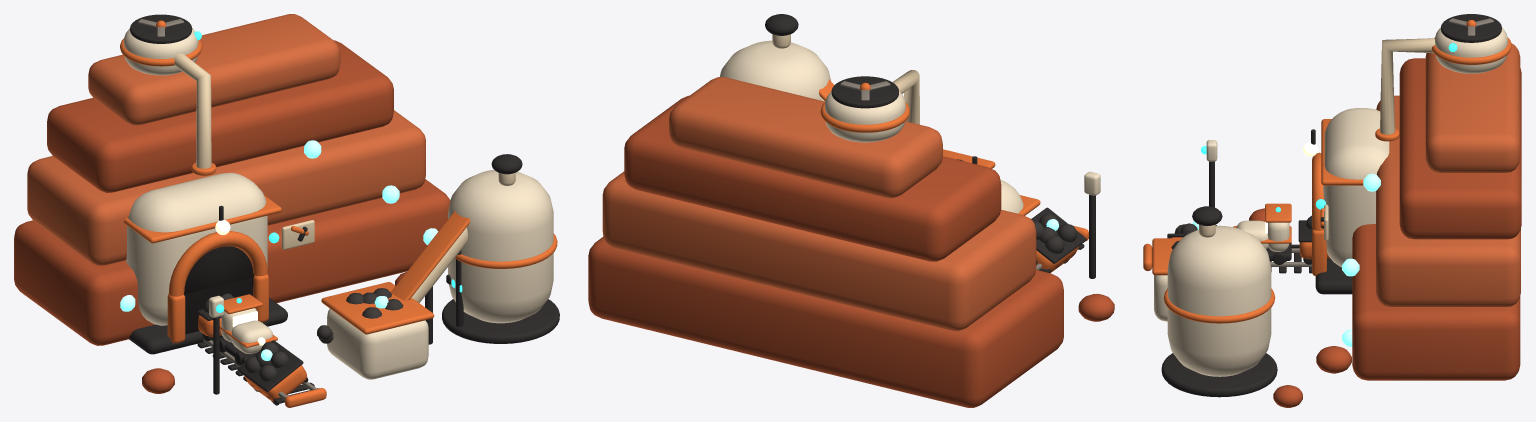
Rendered from mine-portal.glb.
3 renders of one model, left to right at view 1: azimuth 30°, elevation 25°; view 2: azimuth 150°, elevation 25°; view 3: azimuth 270°, elevation 25°, orthographic. The views are drawn at different scales.
Parts seen in each view (by area): view 1: Cube, Cube.002, Cube.001, Cube.003, Cylinder.018, Cube.005, Cube.038, Cylinder.017, Cube.039, Torus, Cylinder, Cube.047 (+20 smaller); view 2: Cube, Cube.001, Cube.002, Cube.003, Cylinder.018, Cylinder.002, Cylinder.003, pipe, Torus.001, Sphere.032, Cube.042, Sphere.030 (+2 smaller); view 3: Cube, Cylinder.018, Cube.001, Cube.002, Cube.003, Cube.005, Cylinder.017, pipe, Cylinder.002, Cylinder.003, Torus.002, Cube.004 (+12 smaller).
Part boxes in pixels (x1,y1,x2,y2): Cube: (14, 179, 450, 345); Cube.002: (47, 40, 393, 192); Cube.001: (27, 110, 425, 265); Cube.003: (88, 14, 340, 125); Cylinder.018: (448, 170, 553, 323); Cube.005: (126, 172, 267, 325); Cube.038: (327, 309, 428, 379); Cylinder.017: (442, 299, 559, 343); Cube.039: (321, 282, 434, 334); Torus: (168, 231, 267, 296); Cylinder: (184, 246, 254, 319); Cube.047: (390, 211, 470, 300); Cube: (588, 236, 1063, 407); Cube.001: (602, 171, 1036, 331); Cube.002: (624, 95, 1001, 261); Cube.003: (669, 77, 942, 198); Cylinder.018: (720, 40, 831, 100); Cylinder.002: (825, 91, 905, 142); Cylinder.003: (831, 76, 898, 108); pipe: (892, 70, 919, 124); Torus.001: (820, 102, 909, 132); Sphere.032: (1078, 294, 1114, 321); Cube.042: (1031, 207, 1086, 263); Sphere.030: (765, 14, 798, 35); Cube: (1352, 224, 1520, 380); Cylinder.018: (1167, 225, 1271, 376); Cube.001: (1376, 95, 1520, 307); Cube.002: (1399, 58, 1521, 239); Cube.003: (1425, 43, 1520, 172); Cube.005: (1323, 108, 1389, 267); Cylinder.017: (1161, 353, 1277, 397); pipe: (1380, 38, 1435, 134); Cylinder.002: (1435, 27, 1507, 73); Cylinder.003: (1441, 14, 1501, 42); Torus.002: (1164, 288, 1275, 323); Cube.004: (1315, 258, 1352, 294).
Bounding box in the file's own units: 2.97 × 1.91 × 2.48.
